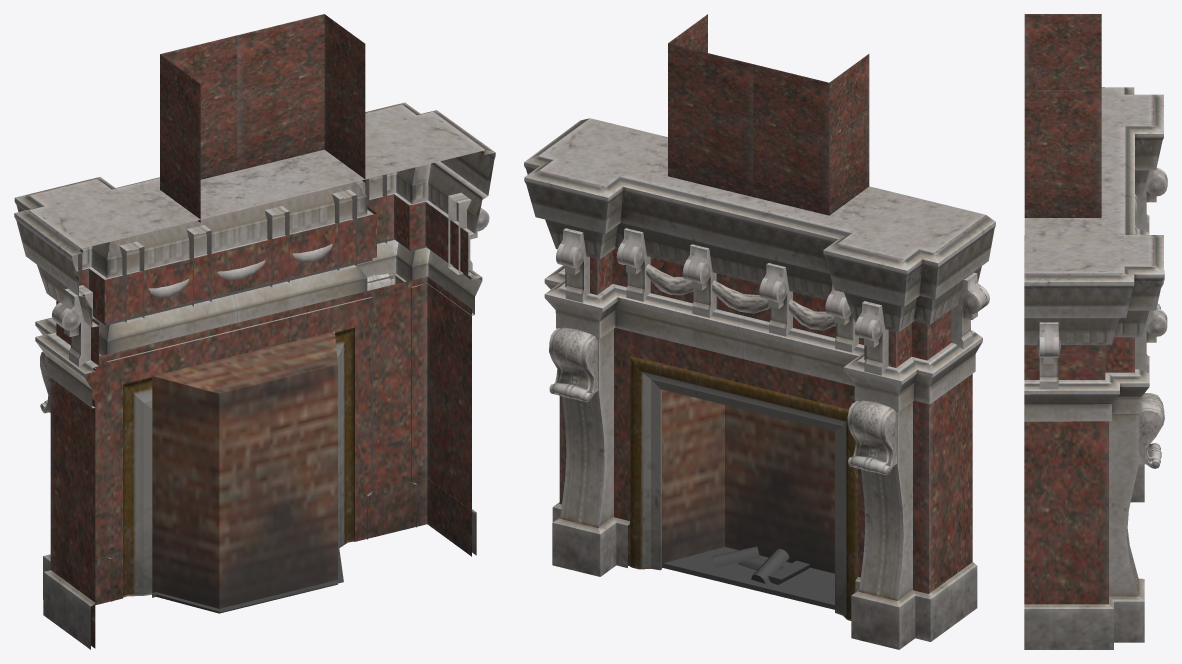
Rendered from FireWall.fbx.
3 renders of one model, left to right at view 1: azimuth 30°, elevation 25°; view 2: azimuth 150°, elevation 25°; view 3: azimuth 270°, elevation 25°, orthographic. The views are drawn at different scales.
Visible parts, largest first — view 1: FireWall; view 2: FireWall; view 3: FireWall.
Part boxes in pixels (<box>): FireWall: <box>14,14,495,649</box>; FireWall: <box>524,14,995,649</box>; FireWall: <box>1024,14,1167,649</box>.
Bounding box in the file's own units: 291 × 351 × 89.38.
Materials: 1 (1 with a texture image).
